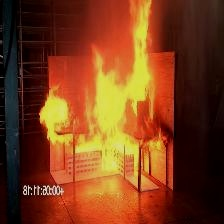fire: (35, 0, 174, 176)
